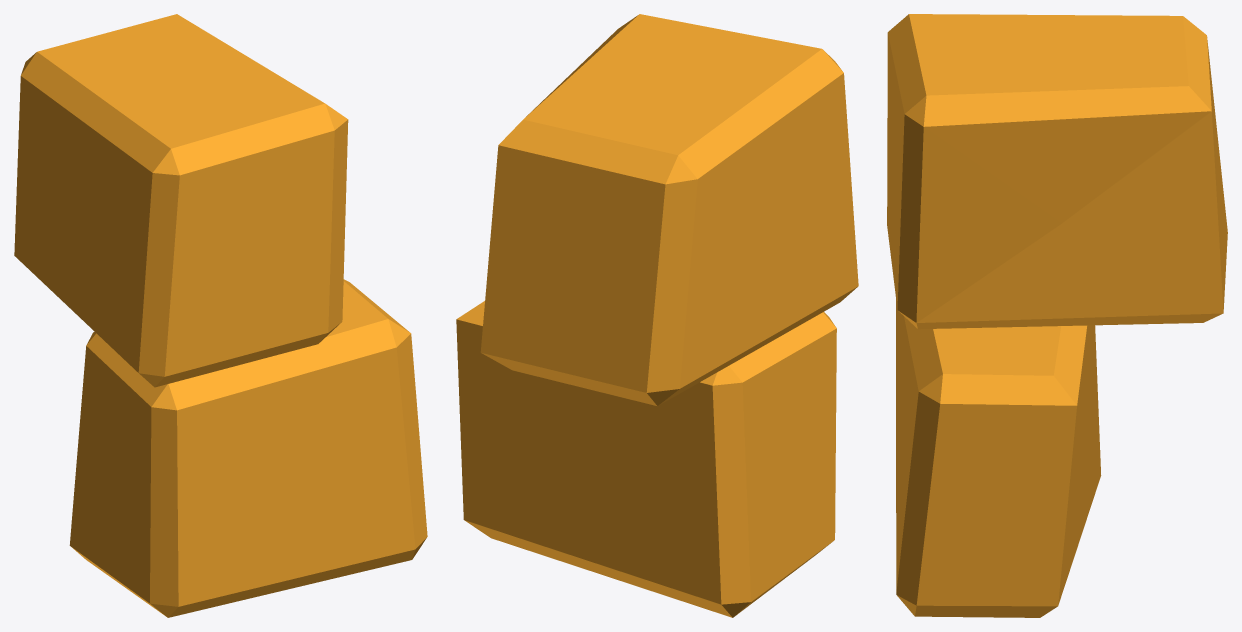
The model's file is SM_Wall_Thick_Corner_Out_Stone_1m_Ext_Fantasy.fbx.
3 views of the same model, side by side, from view 1: azimuth 30°, elevation 25°; view 2: azimuth 150°, elevation 25°; view 3: azimuth 270°, elevation 25° (orthographic). The views are drawn at different scales.
Visible parts, largest first — view 1: SM_Wall_Thick_Corner_Out_Stone_1m_Ext_Fantasy; view 2: SM_Wall_Thick_Corner_Out_Stone_1m_Ext_Fantasy; view 3: SM_Wall_Thick_Corner_Out_Stone_1m_Ext_Fantasy.
Part boxes in pixels (bbox=[...]): SM_Wall_Thick_Corner_Out_Stone_1m_Ext_Fantasy: bbox=[14, 14, 427, 617]; SM_Wall_Thick_Corner_Out_Stone_1m_Ext_Fantasy: bbox=[456, 14, 858, 617]; SM_Wall_Thick_Corner_Out_Stone_1m_Ext_Fantasy: bbox=[887, 14, 1227, 617].
Size of the model in its own units: 0.661 by 1.01 by 0.6456.
